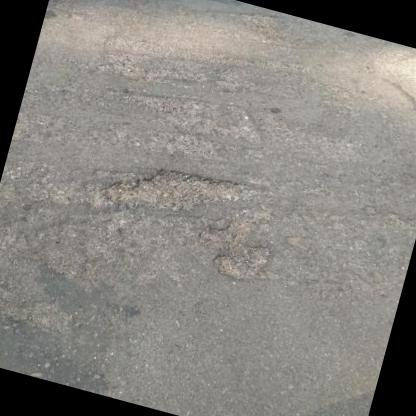pothole: (98, 148, 256, 238), (208, 232, 274, 286)
